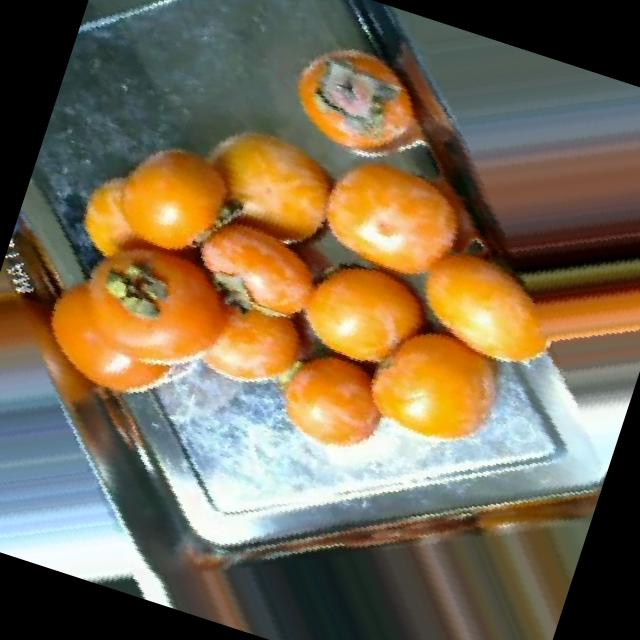Fruit: (35, 97, 281, 337), (242, 320, 422, 486), (61, 544, 193, 612)
